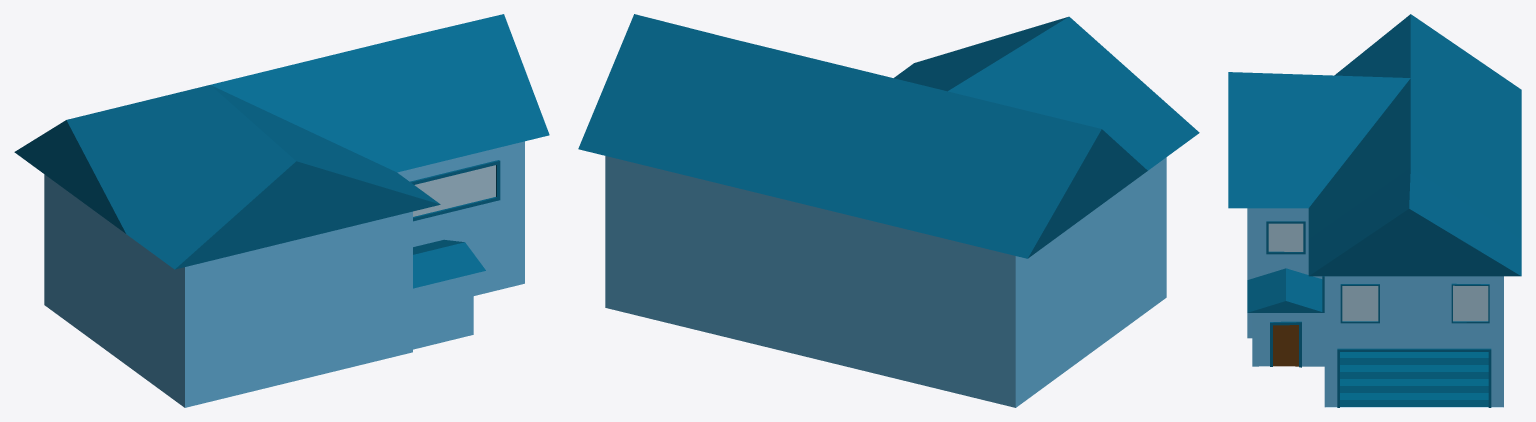
Rendered from blue residential building 2.fbx.
3 renders of one model, left to right at view 1: azimuth 30°, elevation 25°; view 2: azimuth 150°, elevation 25°; view 3: azimuth 270°, elevation 25°, orthographic. The views are drawn at different scales.
Visible parts, largest first — view 1: Cube; view 2: Cube; view 3: Cube.
Part boxes in pixels (left/top/right/bottom): Cube: left=14, top=14, right=549, bottom=407; Cube: left=578, top=14, right=1199, bottom=407; Cube: left=1228, top=14, right=1521, bottom=407.
Size of the model in its own units: 1191 by 599 by 758.
